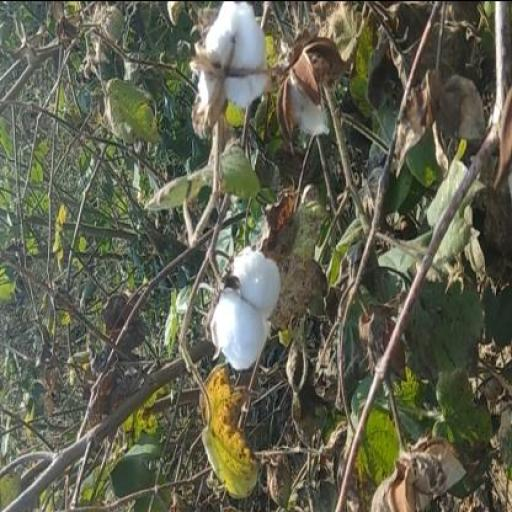cotton_ready: (216, 229, 292, 378), (197, 0, 282, 124)
